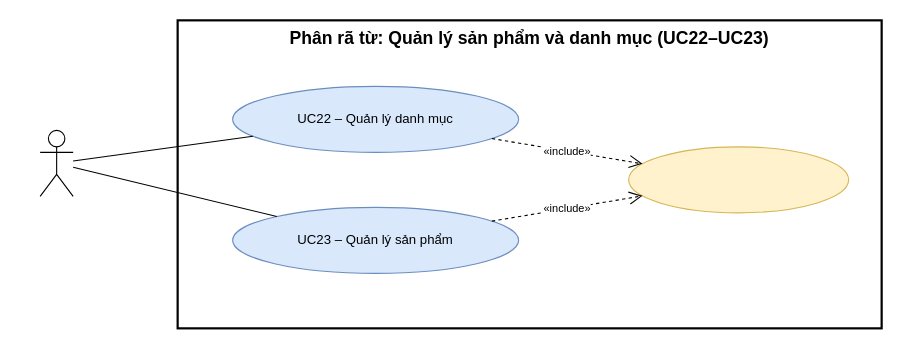
Image size: 902x348. Some labels were removed from this diagram. The shapes that lost their labels are listed below. From the top down, each one's centre as x and y in pixels, then its label:
the point at 56,162: Quản trị viên
the point at 738,179: UC01 – Đăng nhập
